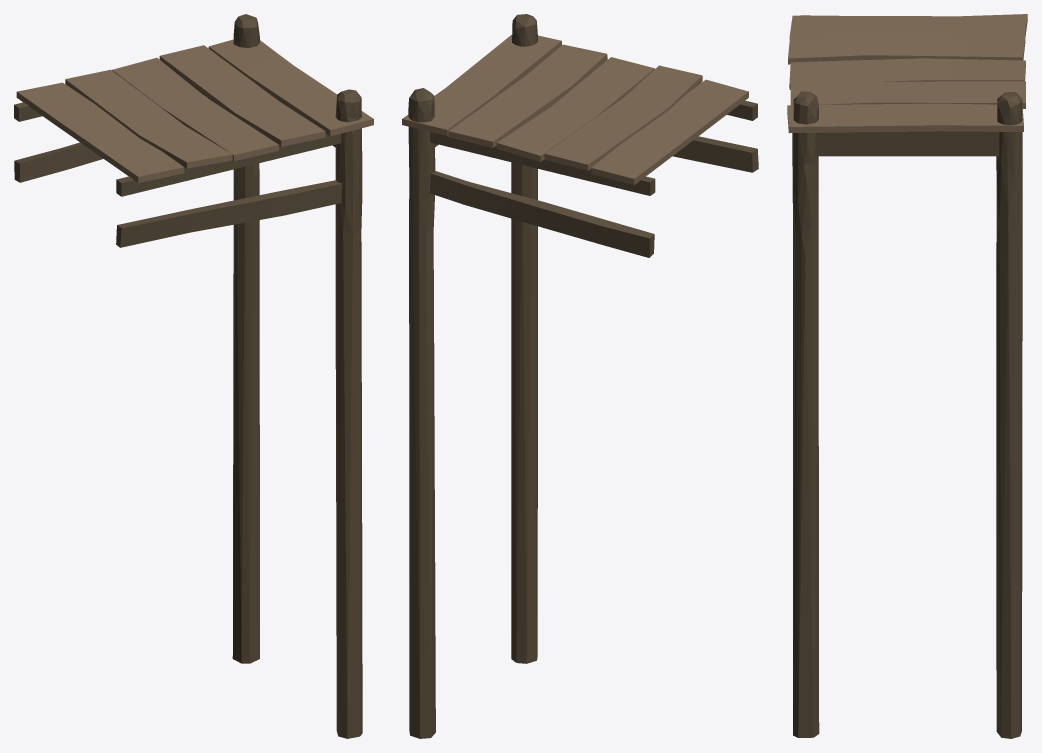
The model's file is port_wooden_bridge_a_short.FBX.
The picture shows the model from 3 angles, left to right: view 1: azimuth 30°, elevation 25°; view 2: azimuth 150°, elevation 25°; view 3: azimuth 270°, elevation 25°; orthographic projection.
Visible parts, largest first — view 1: port_wooden_bridge_a_short; view 2: port_wooden_bridge_a_short; view 3: port_wooden_bridge_a_short.
Part boxes in pixels (bbox=[...]): port_wooden_bridge_a_short: bbox=[14, 14, 373, 738]; port_wooden_bridge_a_short: bbox=[402, 14, 758, 738]; port_wooden_bridge_a_short: bbox=[787, 14, 1027, 738].
Bounding box in the file's own units: 4.19 × 10.36 × 3.54.
